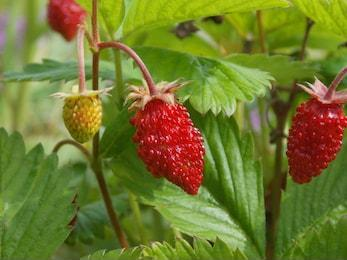Fresa: (121, 76, 217, 202), (278, 81, 347, 200)
